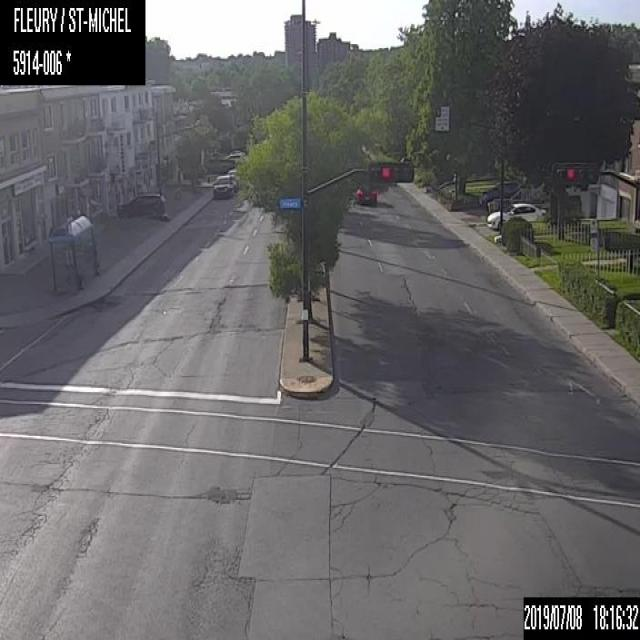vehicle: (486, 201, 544, 231), (116, 191, 164, 217), (478, 179, 520, 205), (353, 179, 376, 204), (212, 174, 233, 195)
